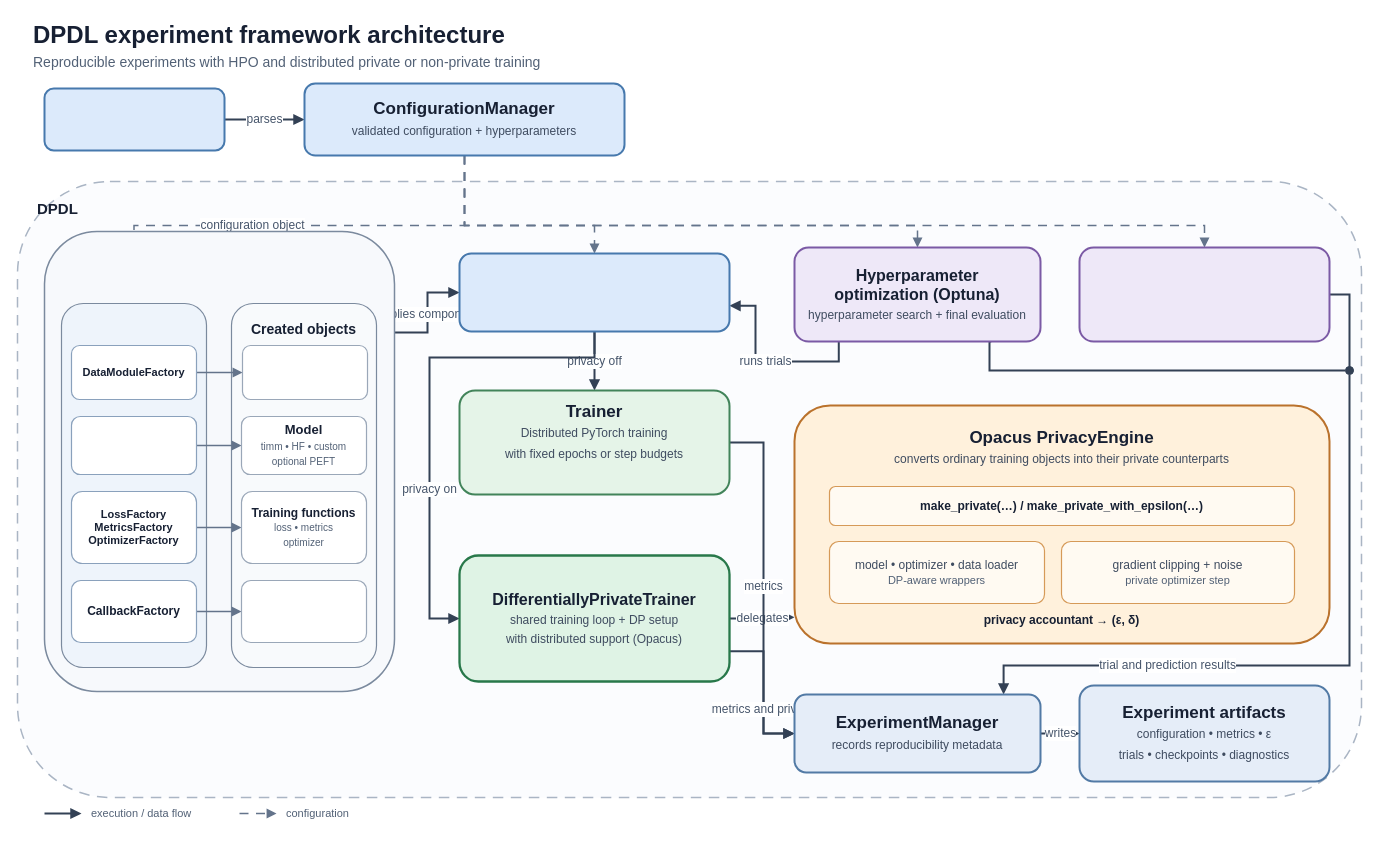
Some shapes in this 1380 by 841 pixel diagram are drawn without their labels. Here are the shapes that lost their labels. From the top down, the box of each, then its label:
(43, 87, 225, 151): CLI experiment command
(458, 252, 730, 332): TrainerFactory selects by privay configuration
(1078, 246, 1330, 342): Predictor evaluation and inference with optional per-example gradient collection
(241, 344, 368, 400): DataModule data loaders + splits
(70, 415, 197, 475): ModelFactory
(43, 230, 395, 692): Experiment components factories read configuration and create objects
(60, 302, 207, 668): Factories
(240, 579, 367, 643): Callbacks logging • checkpoints diagnostics
